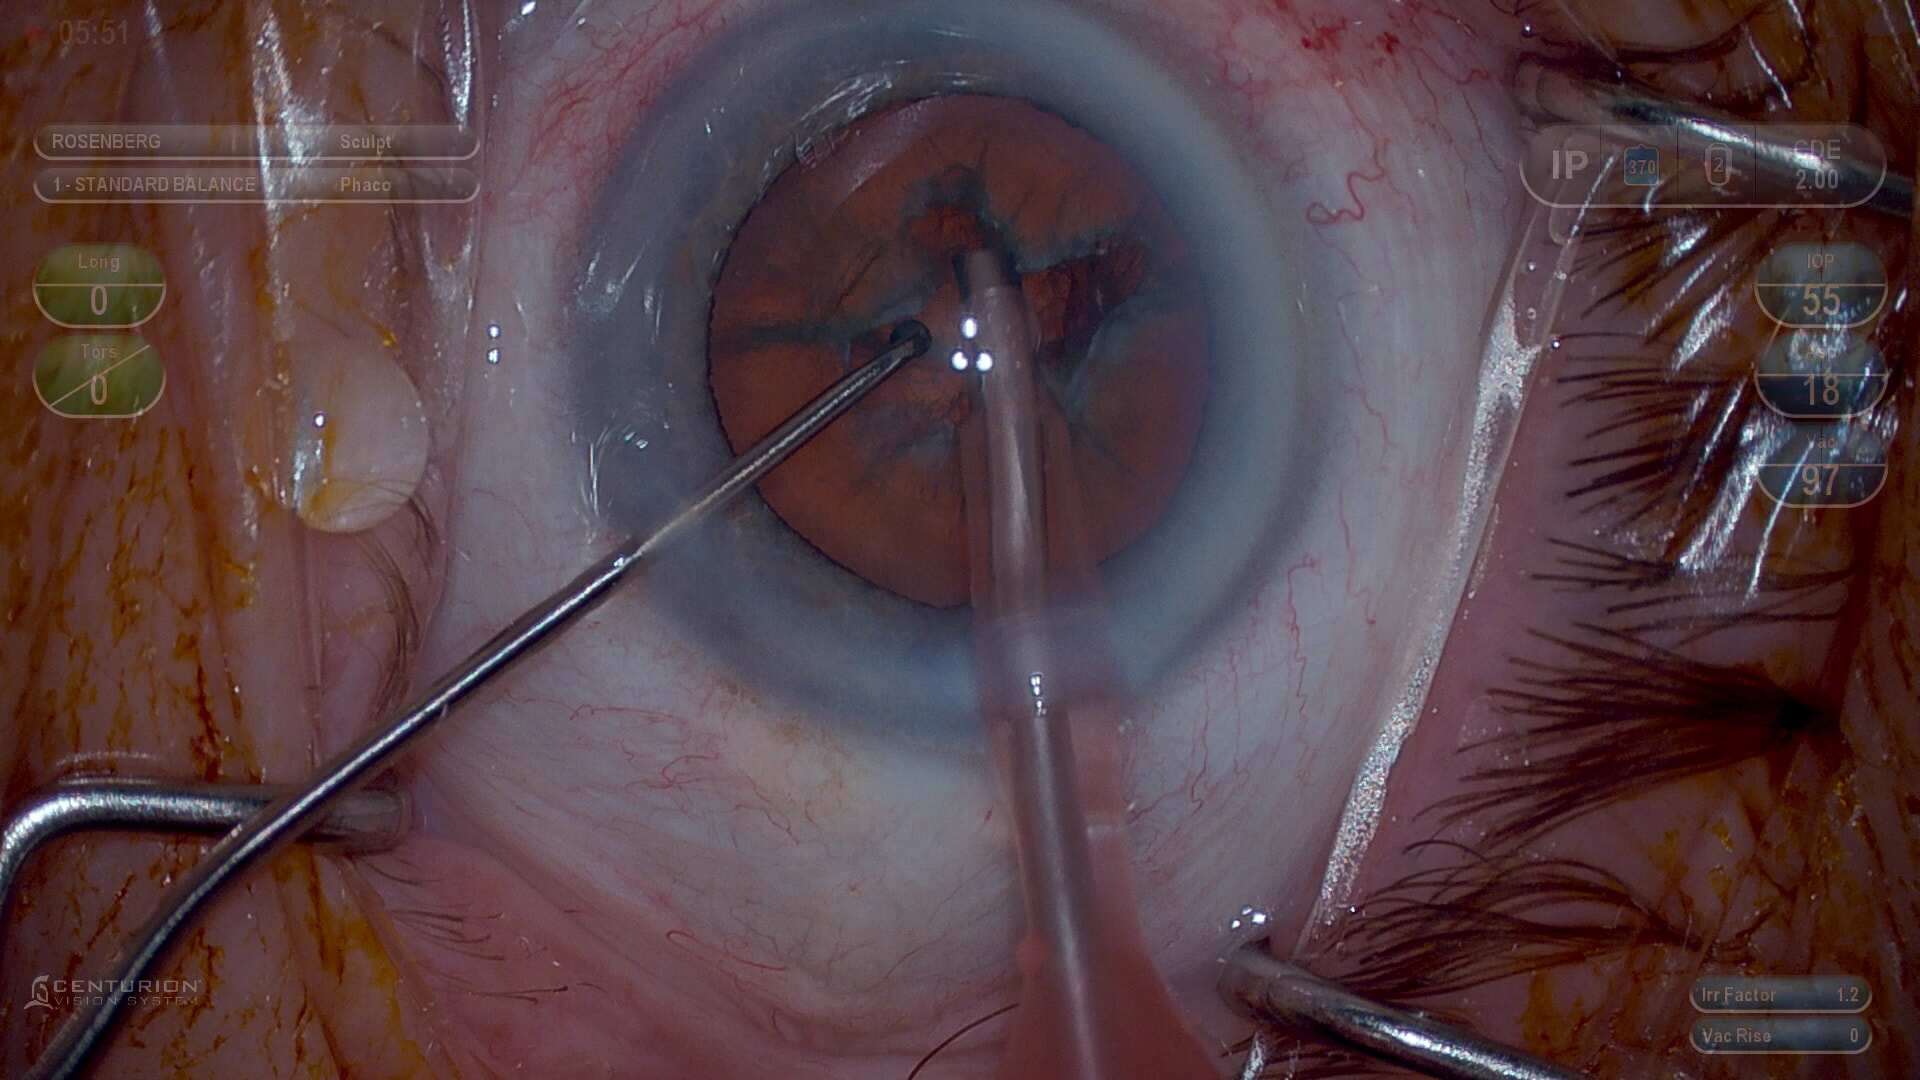iris: (577, 1, 1309, 739)
pupil: (708, 92, 1216, 607)
